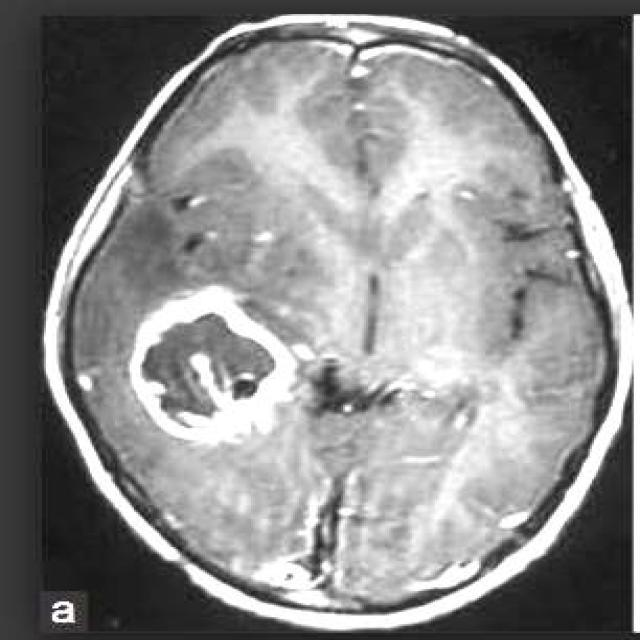Tumor: (122, 282, 303, 455)
